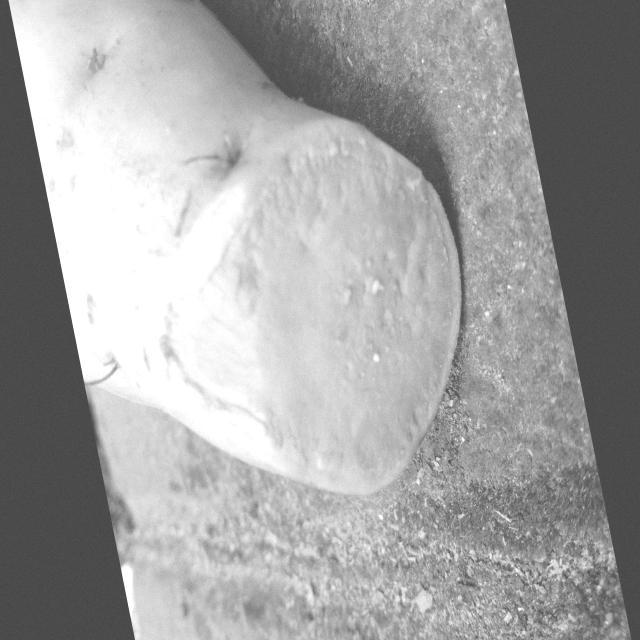Healthy Sweet Potato: (160, 123, 460, 493)
